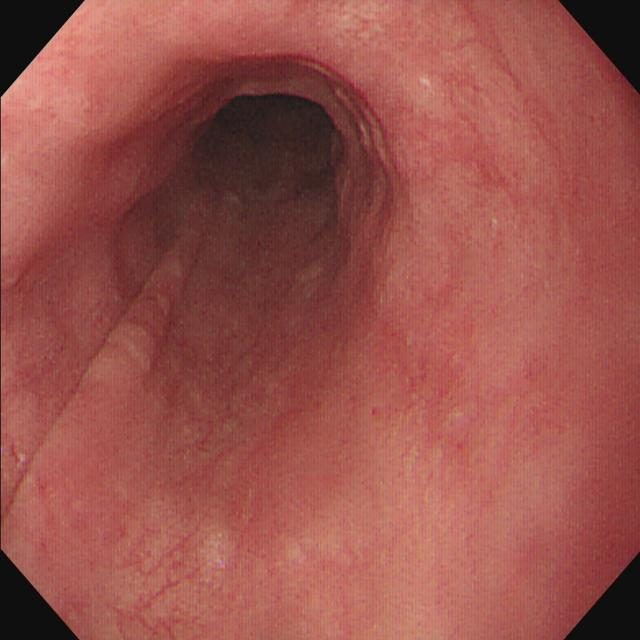E: (188, 74, 355, 216)
